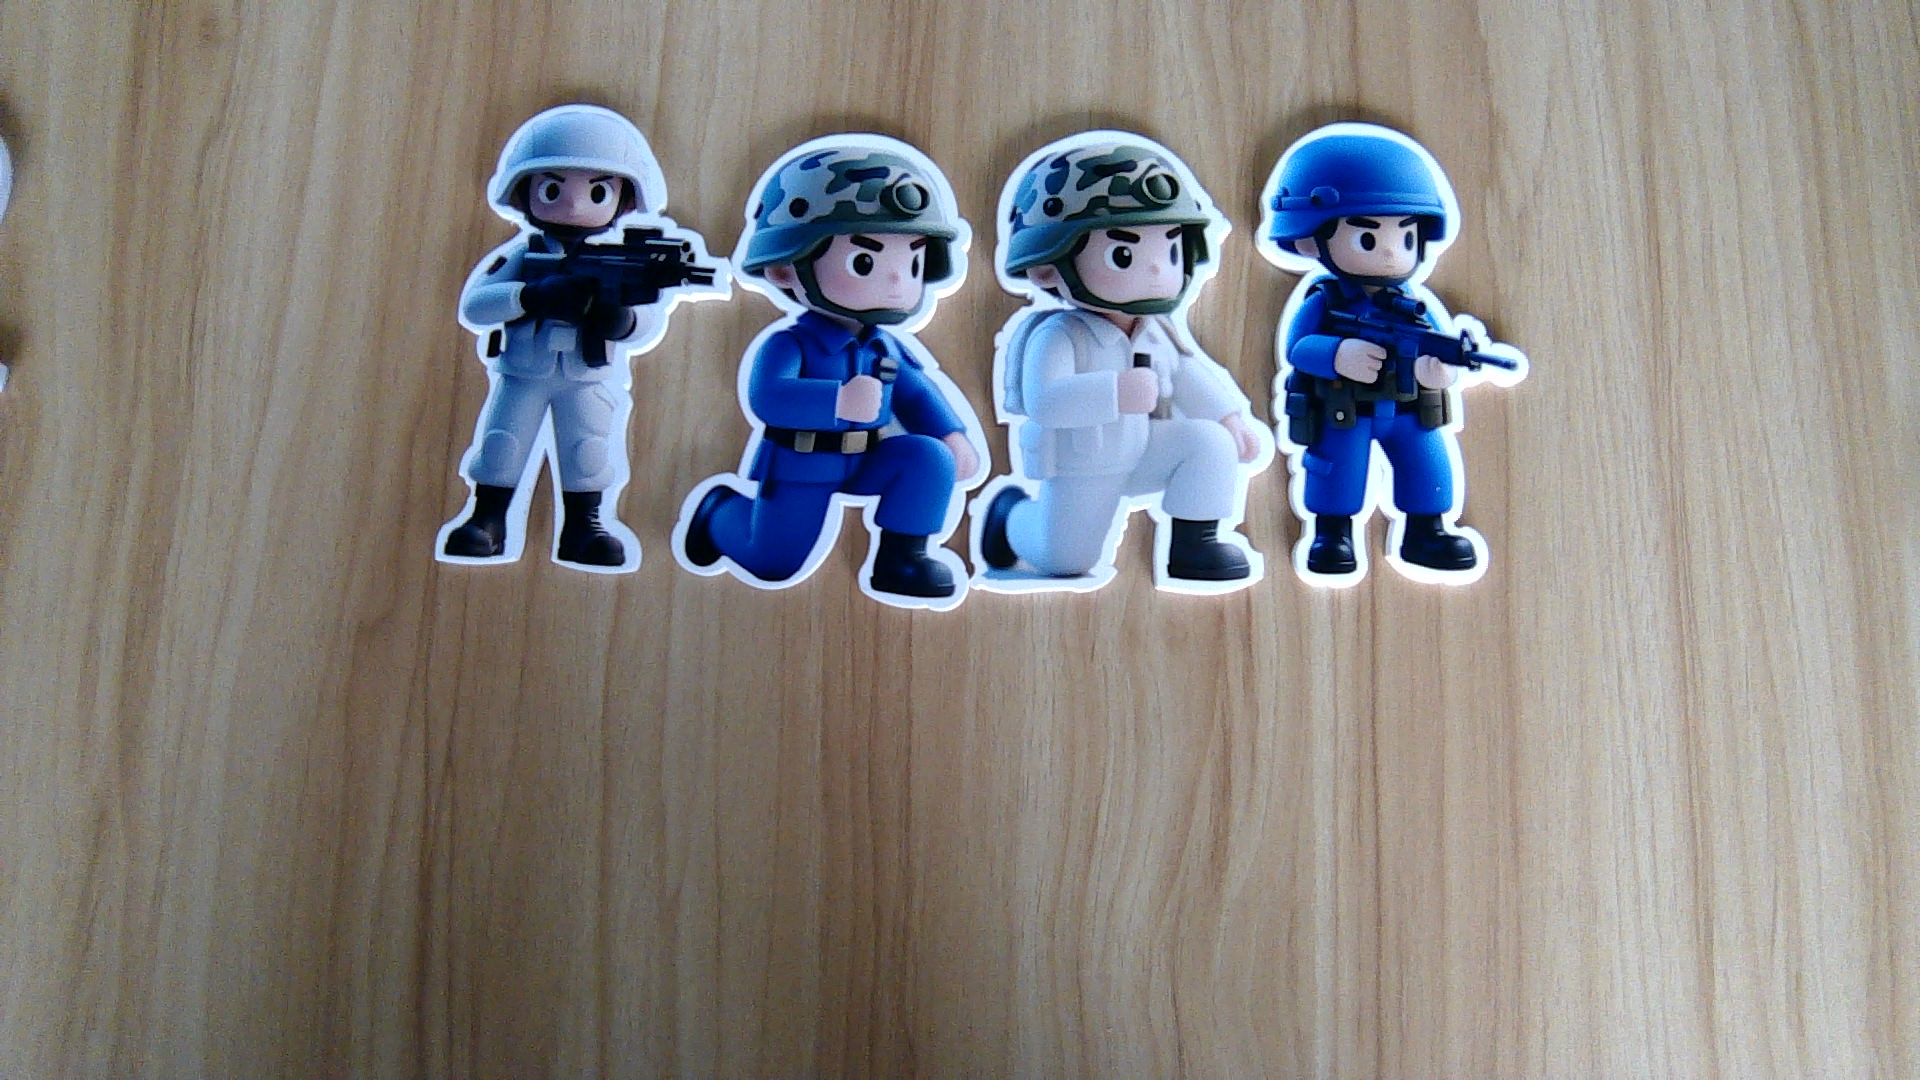人质: (425, 233, 688, 576), (975, 320, 1271, 615)
敌人2: (674, 318, 980, 615), (1274, 273, 1523, 593)
